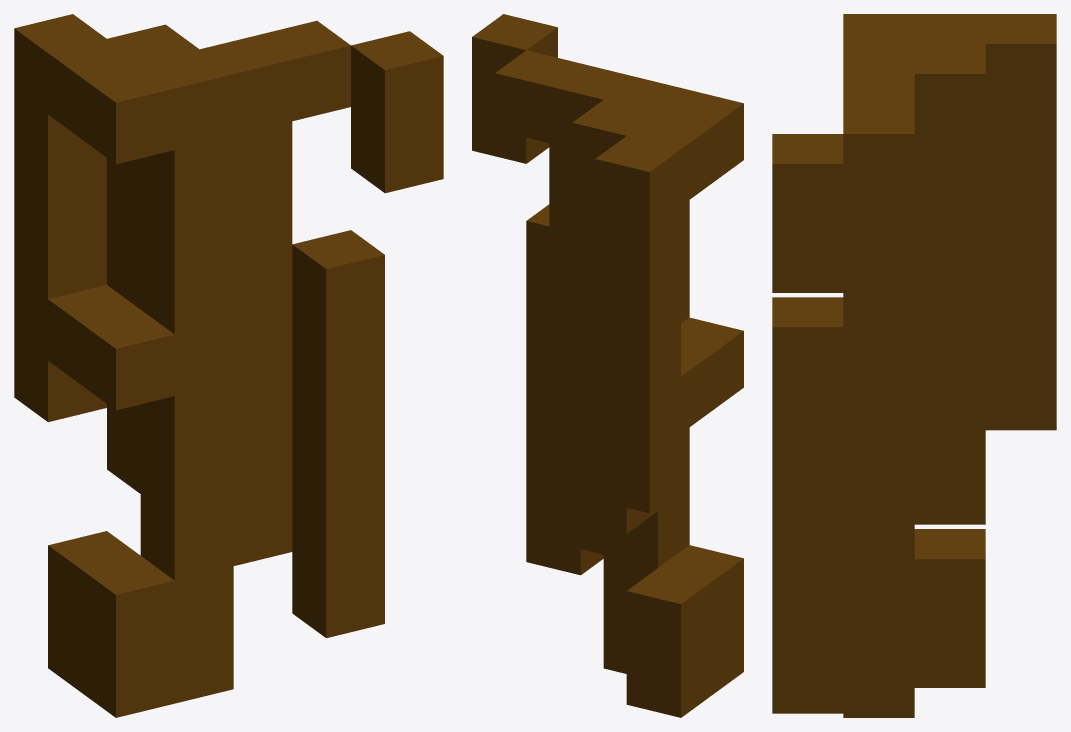
Rendered from Dresser3.obj.
3 renders of one model, left to right at view 1: azimuth 30°, elevation 25°; view 2: azimuth 150°, elevation 25°; view 3: azimuth 270°, elevation 25°, orthographic. The views are drawn at different scales.
Parts seen in each view (by area): view 1: Dresser3; view 2: Dresser3; view 3: Dresser3.
Boxes of the visible parts, x1,y1,x2,y2 form: Dresser3: (14,14,443,717); Dresser3: (472,14,743,717); Dresser3: (772,14,1056,717).
Bounding box in the file's own units: 5 × 10 × 4.
1 material, 1 textured.
